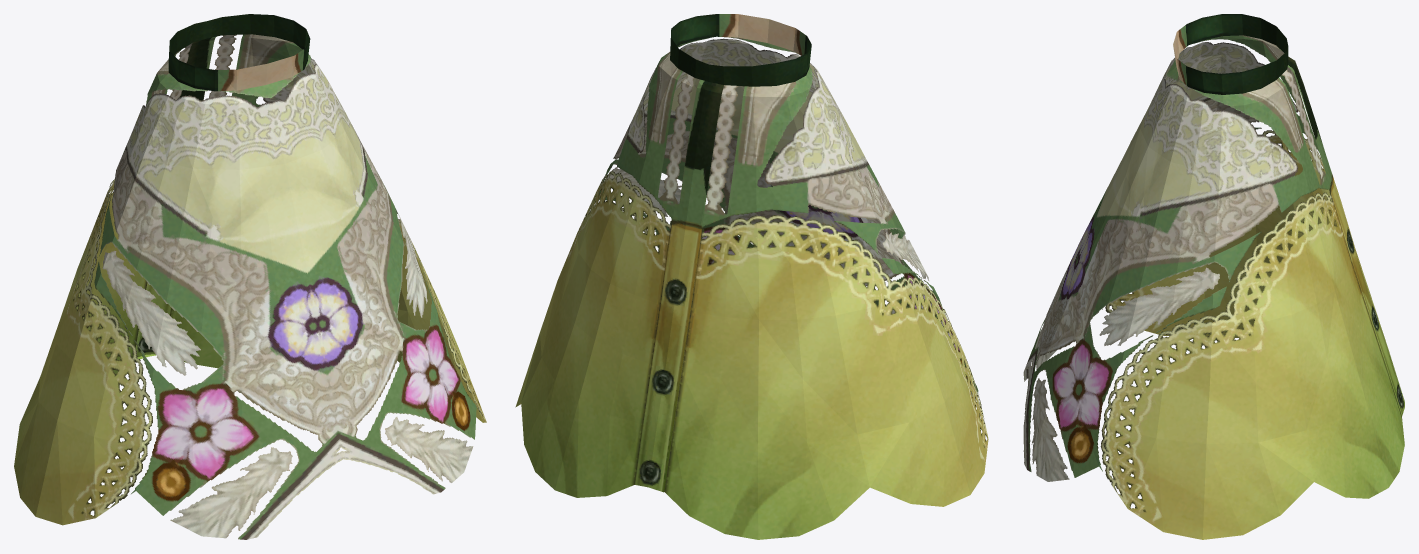
File: skinSource0DGE.obj
3 renders of one model, left to right at view 1: azimuth 30°, elevation 25°; view 2: azimuth 150°, elevation 25°; view 3: azimuth 270°, elevation 25°, orthographic. The views are drawn at different scales.
Visible parts, largest first — view 1: skinSource0DGE; view 2: skinSource0DGE; view 3: skinSource0DGE.
Boxes of the visible parts, bbox=[...] form: skinSource0DGE: bbox=[14, 14, 486, 539]; skinSource0DGE: bbox=[515, 14, 988, 539]; skinSource0DGE: bbox=[1023, 14, 1404, 539].
Size of the model in its own units: 52.68 by 48.3 by 42.65.
